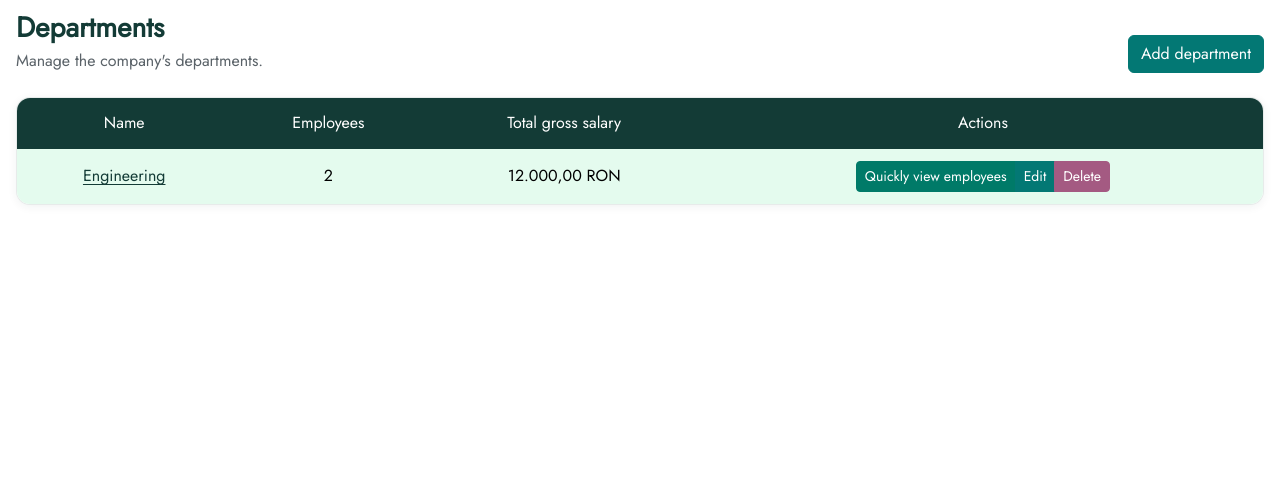
Test case: DepartmentsComponent › template › shows the error under the name and does not save a blank department
Click the button "Add department" at (1196,54), box [1128,35,1264,73]
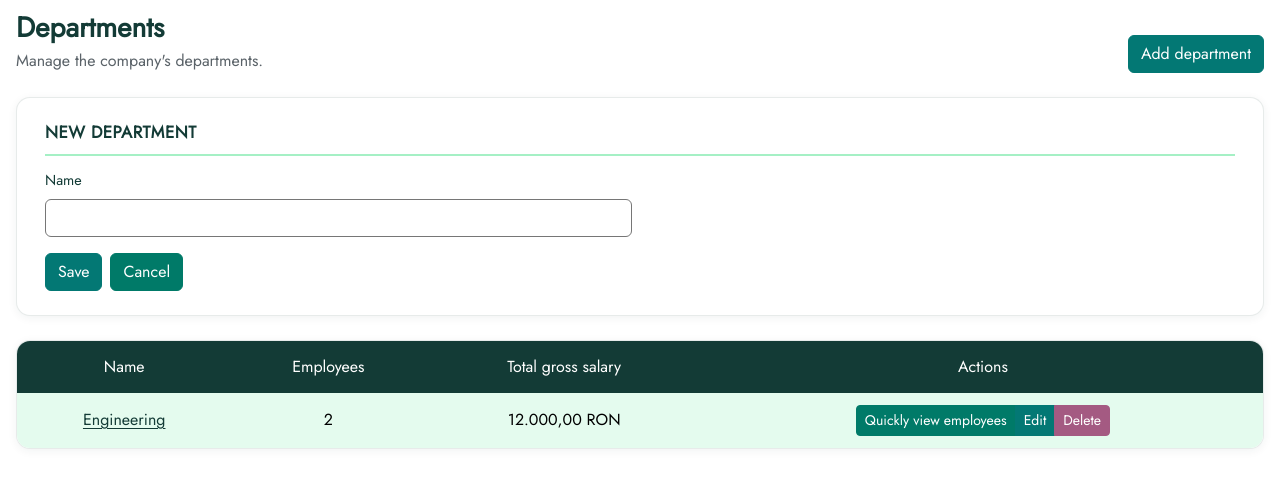
Click the button "Save" at (74,272), box [45,253,102,291]
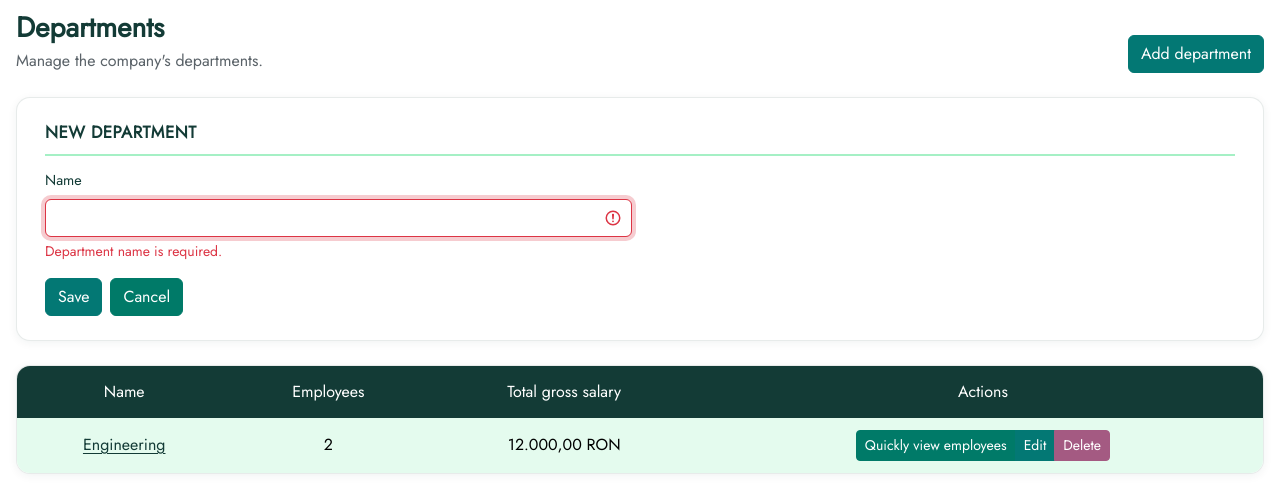
Result: the text with id "name-error" reads "Department name is required." at [45,241,222,261]
